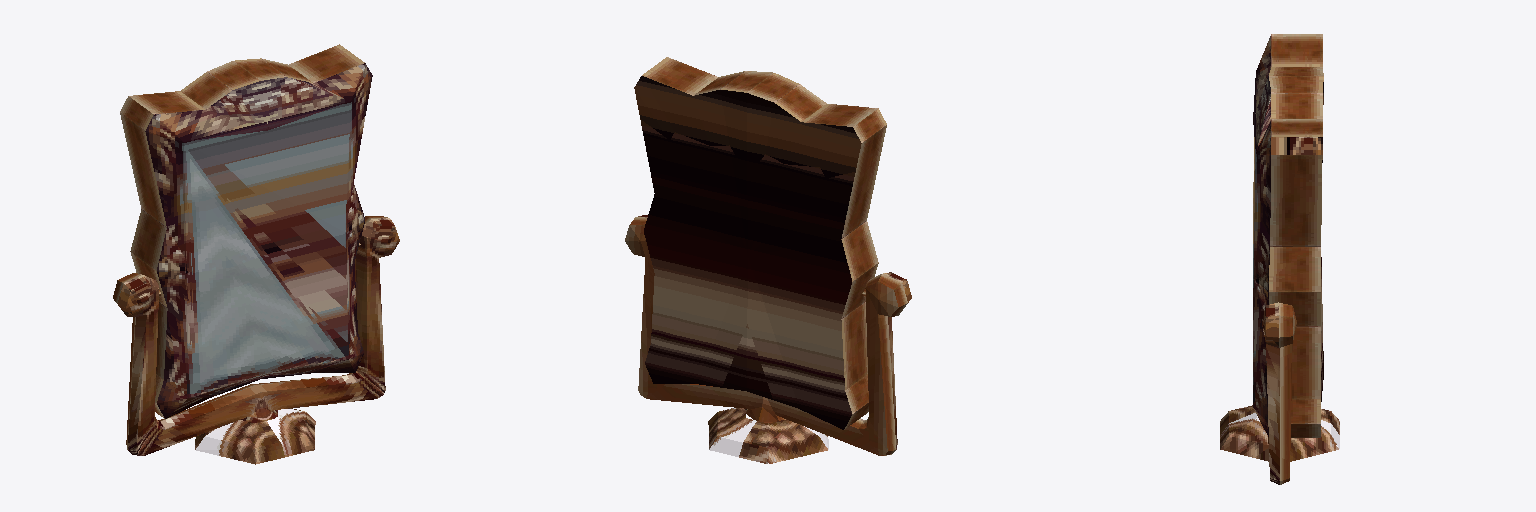
3 views of the same model, side by side, from view 1: azimuth 30°, elevation 25°; view 2: azimuth 150°, elevation 25°; view 3: azimuth 270°, elevation 25° (orthographic).
Parts seen in each view (by area): view 1: part2_texture2, part1_texture1.004, part0_texture0.008; view 2: part1_texture1.004, part0_texture0.008; view 3: part1_texture1.004, part2_texture2, part0_texture0.008.
Part boxes in pixels (left/top/right/bottom): part2_texture2: left=145, top=63, right=372, bottom=418; part1_texture1.004: left=113, top=44, right=399, bottom=455; part0_texture0.008: left=195, top=408, right=315, bottom=464; part1_texture1.004: left=625, top=57, right=911, bottom=455; part0_texture0.008: left=708, top=408, right=828, bottom=464; part1_texture1.004: left=1253, top=34, right=1323, bottom=484; part2_texture2: left=1253, top=36, right=1270, bottom=436; part0_texture0.008: left=1220, top=405, right=1339, bottom=461.
Bounding box in the file's own units: 0.8867 × 1.09 × 0.3281.
Materials: 3 (3 with a texture image).